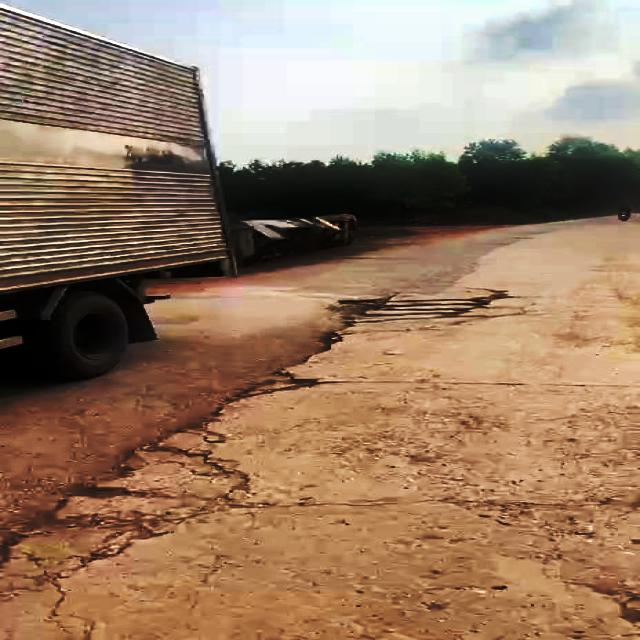pothole: (0, 477, 132, 556), (229, 365, 320, 403)
